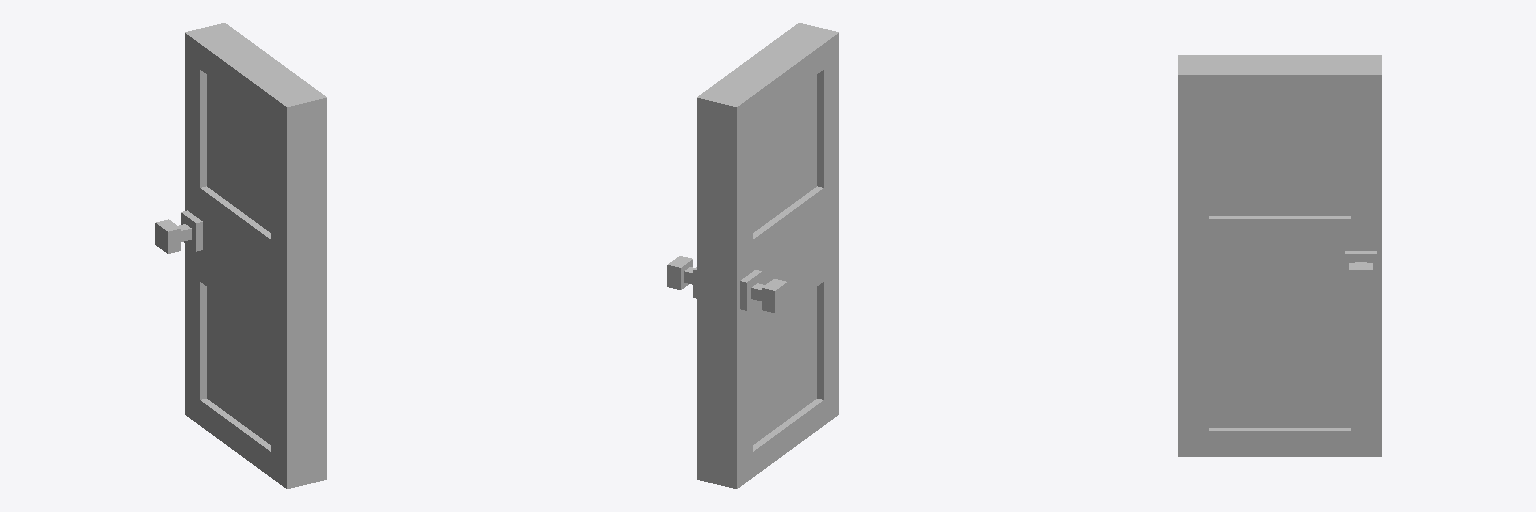
Rendered from Tür 3.obj.
3 renders of one model, left to right at view 1: azimuth 30°, elevation 25°; view 2: azimuth 150°, elevation 25°; view 3: azimuth 270°, elevation 25°, orthographic.
Parts seen in each view (by area): view 1: Tür_3; view 2: Tür_3; view 3: Tür_3.
Part boxes in pixels (x1,y1,x2,y2): Tür_3: (155,23,326,488); Tür_3: (667,23,838,488); Tür_3: (1178,55,1381,456).
Bounding box in the file's own units: 0.8 × 2.71 × 1.32.